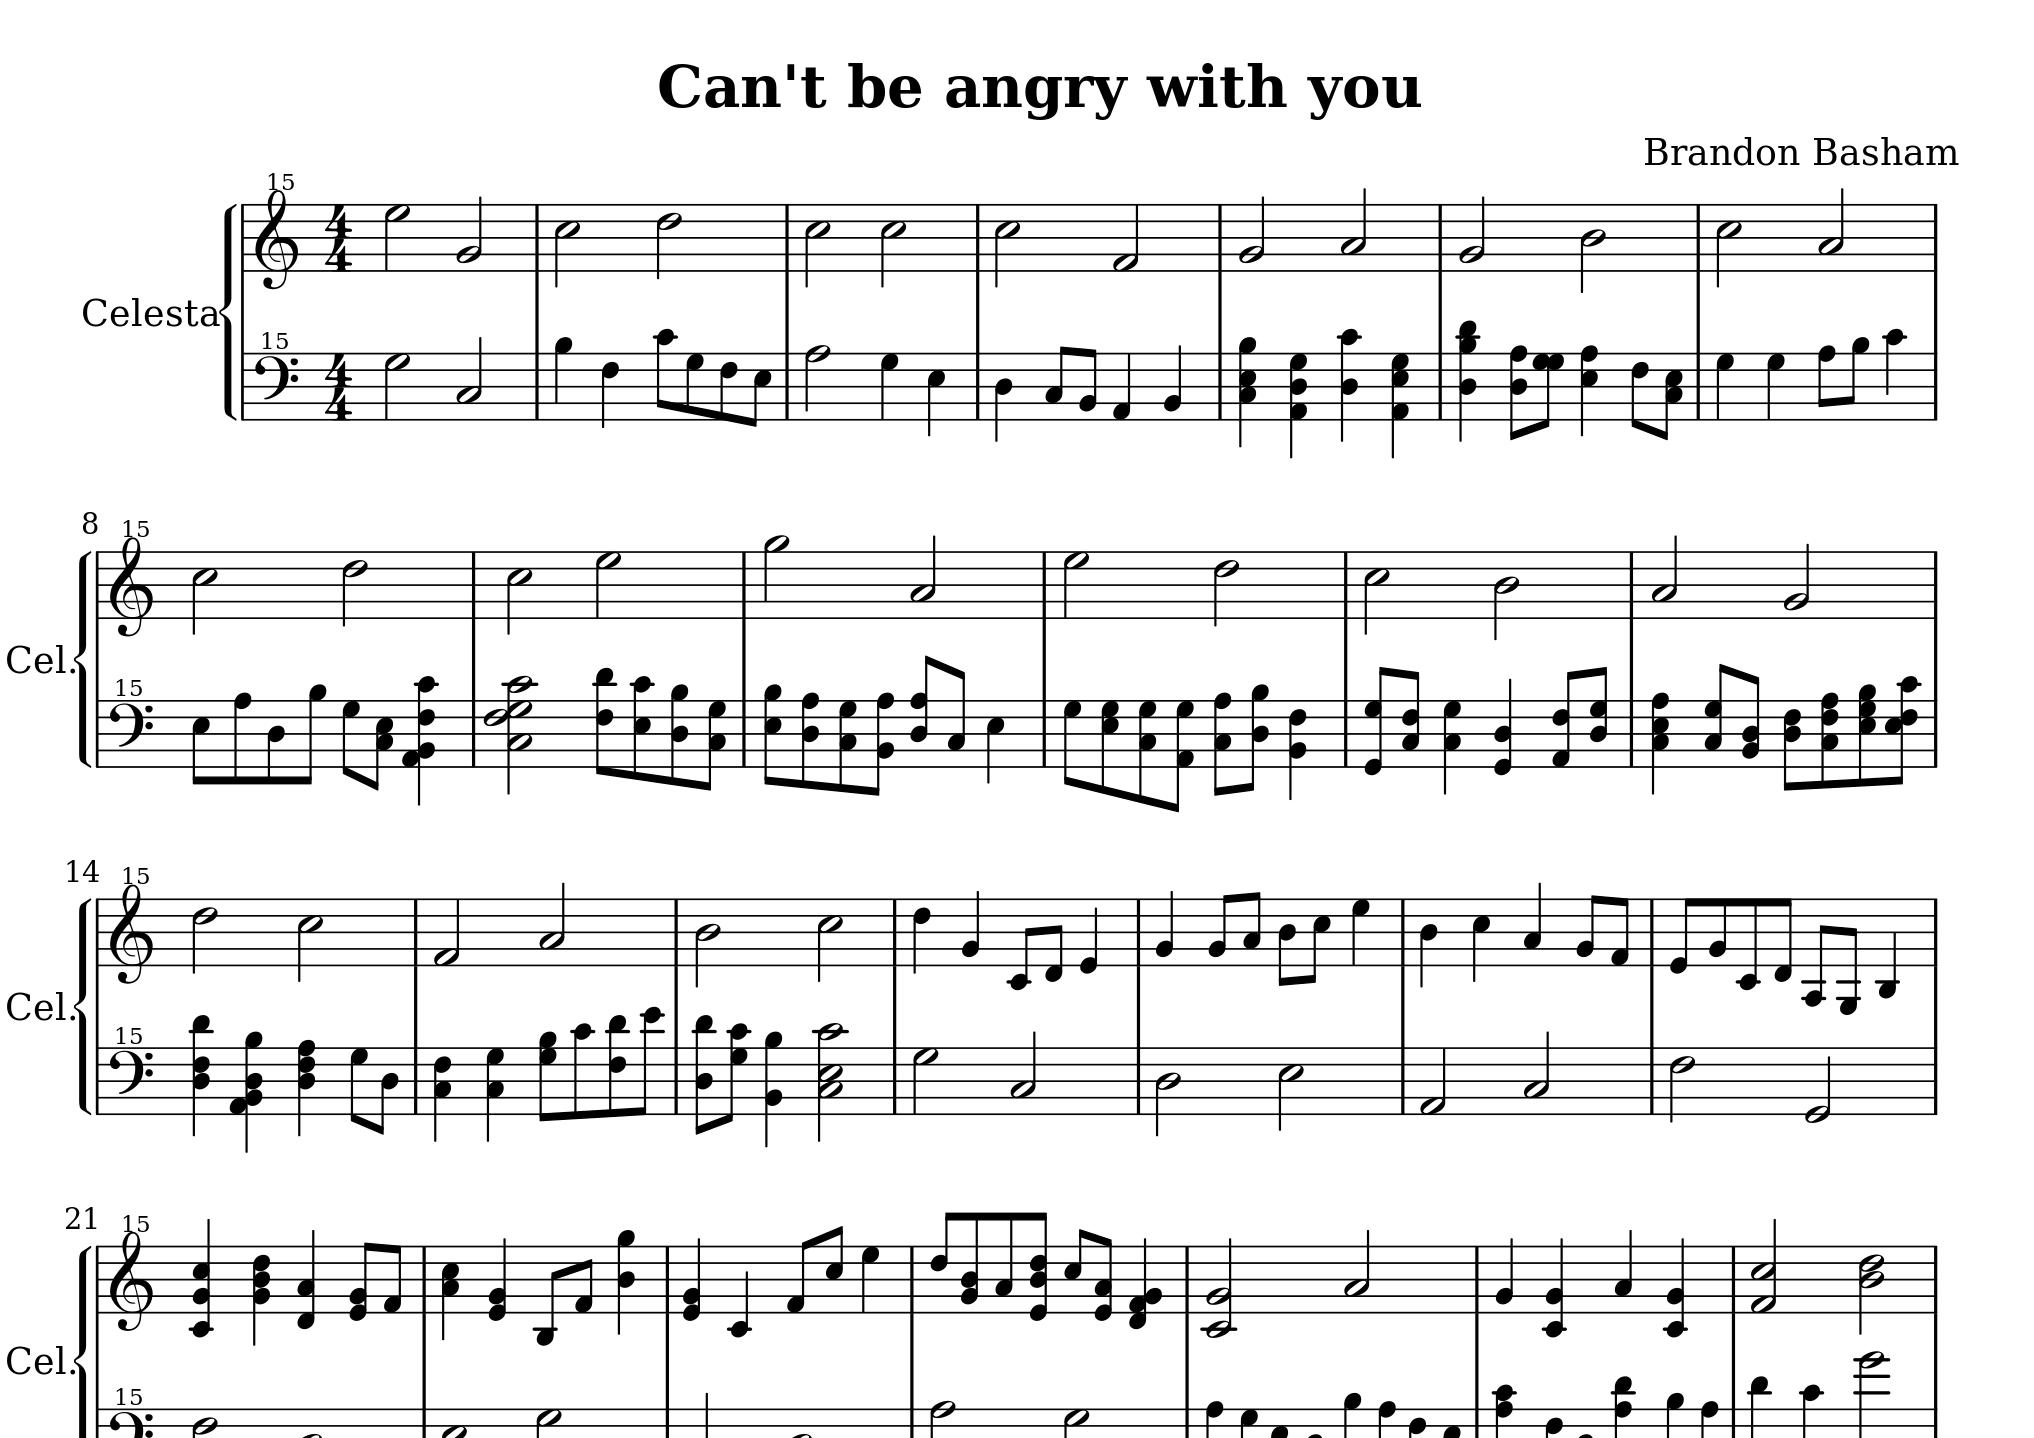1: (84, 1205, 98, 1233), (65, 858, 79, 884)
2: (64, 1205, 82, 1231)
2_0: (1804, 1044, 1832, 1124)
2_1: (433, 896, 462, 970), (1418, 1044, 1447, 1117), (1111, 201, 1141, 272)
2_1_5: (1751, 1217, 1780, 1315)
2_2: (1457, 195, 1488, 272), (1237, 193, 1267, 272), (454, 195, 484, 272), (1782, 542, 1811, 619), (1818, 188, 1846, 269)
2_3: (907, 532, 938, 623), (537, 879, 568, 968), (1650, 534, 1681, 621), (1341, 1226, 1373, 1313), (1338, 187, 1369, 272), (1008, 1030, 1038, 1116), (1522, 1030, 1552, 1116), (454, 335, 482, 420)
2_4: (1578, 201, 1608, 294), (1491, 549, 1520, 643), (693, 896, 722, 988), (1155, 1046, 1181, 1138)
2_4_6: (1858, 1243, 1888, 1335)
2_4th: (486, 671, 538, 795)
2_5: (815, 896, 843, 984), (1276, 1044, 1304, 1131), (991, 202, 1019, 288), (1362, 549, 1390, 635), (296, 896, 324, 982), (552, 202, 580, 286), (1713, 202, 1741, 286), (803, 202, 829, 288), (879, 202, 906, 288), (506, 549, 532, 635), (191, 549, 216, 633)
2_6: (655, 202, 682, 280), (341, 549, 367, 627), (1212, 549, 1239, 627), (1668, 1046, 1695, 1124), (191, 896, 216, 974)
2_7: (381, 350, 409, 422), (910, 1046, 938, 1117), (1061, 549, 1089, 619), (381, 202, 409, 271), (594, 549, 621, 619)
2_8: (801, 342, 829, 423)
2_9: (763, 532, 791, 623)
2_th: (812, 1019, 848, 1145)
4: (321, 202, 356, 237), (321, 237, 356, 271), (321, 386, 356, 420), (322, 352, 355, 388), (82, 858, 101, 884)
4_-1_3: (296, 1231, 317, 1331)
4_-2: (727, 1243, 752, 1338)
4_-2_2: (1541, 1236, 1570, 1338), (1664, 1236, 1689, 1338)
4_0: (1077, 896, 1100, 974)
4_0_2: (682, 1237, 700, 1323), (489, 1237, 507, 1321)
4_0_4: (1492, 679, 1514, 777)
4_1: (1110, 350, 1134, 422)
4_2: (1161, 342, 1184, 422), (959, 889, 982, 966), (1153, 889, 1177, 966), (1494, 1236, 1516, 1313)
4_2_6: (1289, 697, 1310, 798)
4_2_9: (764, 1030, 784, 1149)
4_3: (1612, 1226, 1636, 1313), (1520, 881, 1544, 966)
4_3_5: (440, 1243, 461, 1345)
4_3_6: (433, 1044, 453, 1141)
4_3_7: (1441, 697, 1464, 795), (484, 1044, 506, 1145)
4_4: (993, 352, 1015, 444), (1418, 896, 1440, 988)
4_4_9: (615, 1228, 637, 1334)
4_4th: (230, 1026, 268, 1155), (402, 675, 437, 803)
4_5: (984, 699, 1005, 787), (1471, 896, 1492, 984), (926, 350, 946, 439)
4_5_8: (1580, 344, 1598, 437)
4_6: (910, 896, 932, 976), (599, 352, 619, 430)
4_6_12: (1335, 325, 1362, 442)
4_7: (878, 352, 900, 422), (1713, 352, 1735, 422), (1765, 352, 1787, 422), (1349, 896, 1371, 966), (859, 1243, 879, 1313)
4_9: (552, 335, 574, 422)
4_th: (187, 1010, 215, 1138), (1454, 321, 1483, 440), (188, 1215, 216, 1340), (1128, 1236, 1164, 1331), (1285, 345, 1310, 454), (1387, 352, 1412, 459), (247, 1239, 272, 1345), (1236, 336, 1257, 447), (294, 1036, 316, 1136)
8: (81, 507, 100, 535)
8_-1: (1771, 896, 1794, 984), (1043, 896, 1064, 984)
8_-2: (1004, 896, 1036, 991), (1734, 896, 1762, 990)
8_-3: (532, 1245, 560, 1348), (1874, 896, 1899, 999)
8_-4: (1801, 896, 1829, 1008)
8_-5: (1836, 896, 1861, 1016)
8_0: (1667, 896, 1695, 974)
8_0_2: (349, 1240, 375, 1321)
8_0_3: (1092, 1233, 1116, 1321)
8_0_7: (1363, 665, 1391, 778)
8_1: (784, 1236, 815, 1313), (573, 1243, 594, 1328), (1608, 895, 1629, 968), (381, 1243, 402, 1317)
8_10: (571, 1021, 594, 1121), (654, 325, 677, 422), (1883, 327, 1906, 422)
8_12: (633, 1005, 665, 1117)
8_1_6: (1552, 669, 1578, 767)
8_1_7: (1166, 699, 1197, 811)
8_2: (1205, 892, 1233, 966), (1573, 893, 1601, 966), (1706, 896, 1727, 966), (1078, 347, 1099, 422)
8_2_4: (960, 1211, 980, 1317)
8_2_8: (868, 693, 896, 797)
8_3: (991, 1209, 1016, 1317), (945, 665, 966, 770), (1043, 344, 1071, 422), (1240, 889, 1262, 966)
8_3_5: (369, 699, 394, 794), (1661, 352, 1685, 440)
8_3_6: (1401, 668, 1421, 770)
8_3_7: (1704, 663, 1731, 770), (1134, 699, 1159, 808), (700, 700, 728, 794), (836, 699, 859, 795)
8_3_8: (1212, 689, 1233, 798)
8_4: (373, 1046, 398, 1138), (265, 697, 286, 787), (1276, 896, 1296, 988)
8_4_11: (691, 1015, 717, 1135)
8_4_6: (1782, 699, 1804, 792)
8_4_7: (1589, 668, 1609, 767)
8_4_8: (907, 654, 935, 769), (800, 689, 822, 791), (1508, 342, 1528, 440)
8_4_9: (1245, 682, 1271, 792), (669, 685, 689, 787)
8_5: (1304, 896, 1331, 987), (1061, 1226, 1088, 1313), (745, 352, 773, 430), (190, 697, 212, 787), (823, 1223, 845, 1313)
8_5_10: (627, 675, 657, 784)
8_5_7: (1100, 699, 1122, 795)
8_5_9: (763, 682, 784, 787)
8_6: (928, 1209, 956, 1317), (1629, 350, 1650, 434), (717, 352, 738, 423)
8_6_11: (590, 665, 618, 777)
8_7: (1061, 699, 1082, 789), (341, 699, 361, 783), (349, 1047, 369, 1127), (685, 350, 703, 422)
8_7_10: (721, 1022, 752, 1127)
8_7_9: (537, 1030, 559, 1124)
8_8: (230, 689, 254, 786), (1816, 342, 1836, 422)
8_9: (296, 682, 325, 787), (1843, 336, 1871, 422)
8_th: (1883, 674, 1924, 784), (1818, 689, 1841, 787), (1857, 682, 1877, 784)
Brace: (219, 199, 240, 420), (73, 548, 93, 767), (73, 896, 93, 1113), (75, 1240, 93, 1436)
Cel: (2, 1338, 68, 1382), (79, 293, 146, 335), (2, 637, 67, 679), (2, 987, 67, 1022)
Fclef: (251, 349, 299, 420), (106, 697, 153, 767), (107, 1044, 153, 1116)
Gclef: (254, 188, 299, 289), (109, 882, 153, 985), (109, 535, 153, 637), (109, 1231, 153, 1332)
Single_barline: (528, 204, 546, 271), (1468, 1247, 1486, 1312), (1927, 352, 1944, 420), (416, 1245, 433, 1313), (1690, 204, 1707, 271), (529, 352, 546, 419), (1690, 352, 1707, 419), (1394, 898, 1412, 965), (887, 1046, 904, 1113), (1927, 1047, 1944, 1114), (970, 204, 987, 269), (1927, 204, 1944, 269), (970, 352, 987, 417), (1212, 353, 1229, 419), (736, 551, 753, 616), (1036, 551, 1054, 616), (1927, 551, 1944, 616), (1623, 700, 1640, 766), (658, 1245, 675, 1310), (1927, 1247, 1944, 1312), (465, 552, 482, 616), (1928, 898, 1944, 966), (669, 1046, 685, 1114), (1180, 1245, 1195, 1313), (780, 204, 795, 271), (780, 352, 795, 419), (1432, 352, 1447, 419), (465, 699, 481, 766), (736, 699, 752, 766), (1036, 699, 1052, 766), (1338, 699, 1354, 766), (90, 898, 106, 965), (408, 898, 423, 965), (1643, 898, 1659, 965), (904, 1247, 920, 1313), (1432, 204, 1447, 269), (669, 900, 685, 965), (408, 1047, 423, 1113), (1394, 1047, 1410, 1113), (1643, 1047, 1659, 1113), (90, 1247, 106, 1312), (1726, 1247, 1741, 1312), (1212, 205, 1228, 269), (90, 552, 106, 616), (1338, 552, 1354, 616), (1625, 552, 1640, 616), (887, 900, 903, 963), (237, 202, 251, 269), (1928, 700, 1942, 767), (237, 353, 251, 419), (90, 700, 104, 766), (1131, 900, 1145, 965), (90, 1047, 104, 1113), (1131, 1047, 1145, 1113), (416, 1408, 433, 1438)
TimeSig: (322, 202, 355, 271), (324, 352, 353, 420)
